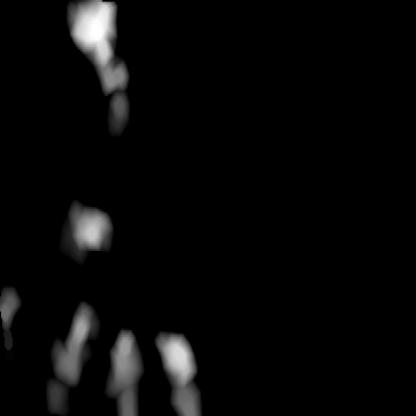fingers: (67, 0, 128, 90)
palm: (1, 288, 198, 414)
